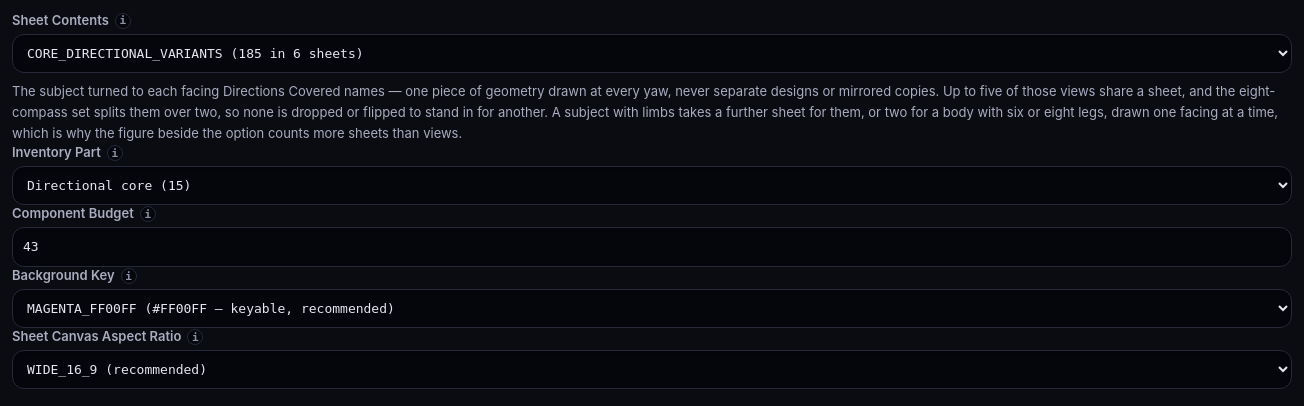
Test: SheetFields › reads out the account of the sheet actually chosen
Select "CUTOUT_RIG_SINGLE_DIRECTION (75 in 5 sheets)" in the dropdown labelled "Sheet Contents". click: coordinates (652, 54)
box: [12,34,1292,73]
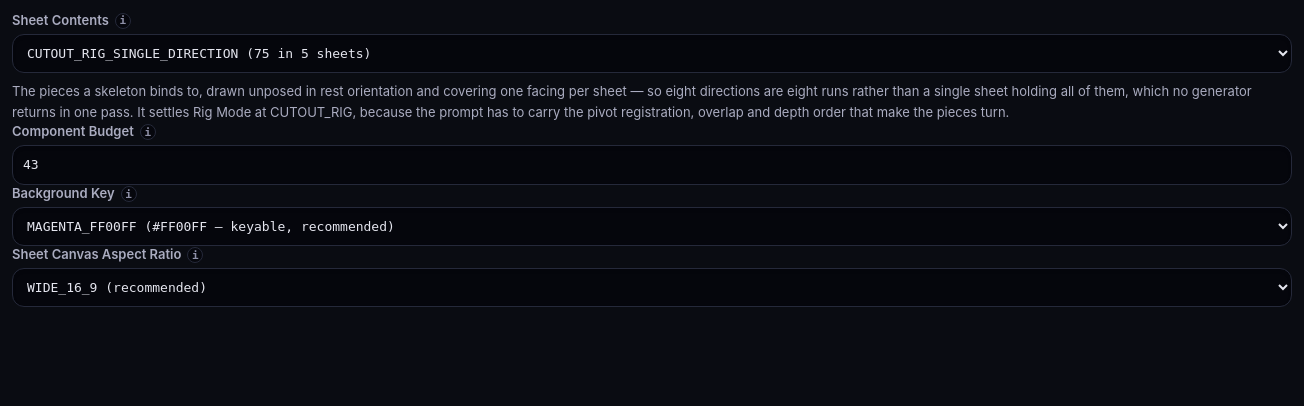
Expected: the text "The pieces a skeleton binds to, drawn unposed in rest orientation and covering one facing per sheet — so eight directions are eight runs rather than a single sh" is shown, [12,83,1252,120]
Expected: the text "The subject turned to each facing Directions Covered names — one piece of geometry drawn at every yaw, never separate de" is gone
